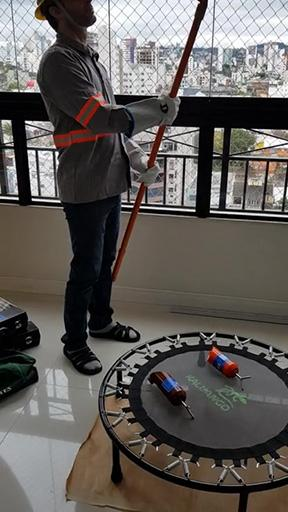Detector_Tensao_Contato: (150, 371, 195, 416), (206, 348, 250, 388)
Vara_Manobra: (110, 1, 213, 280)
